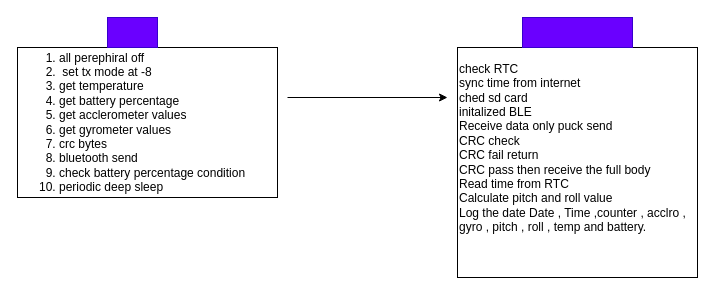
Image size: 715x295. Some labels were removed from this diagram. The centre of each missing label's shape, as x and y in pixels:
"Esp32 Gateway" belongs at (x=577, y=32).
"Puck" belongs at (x=132, y=32).
